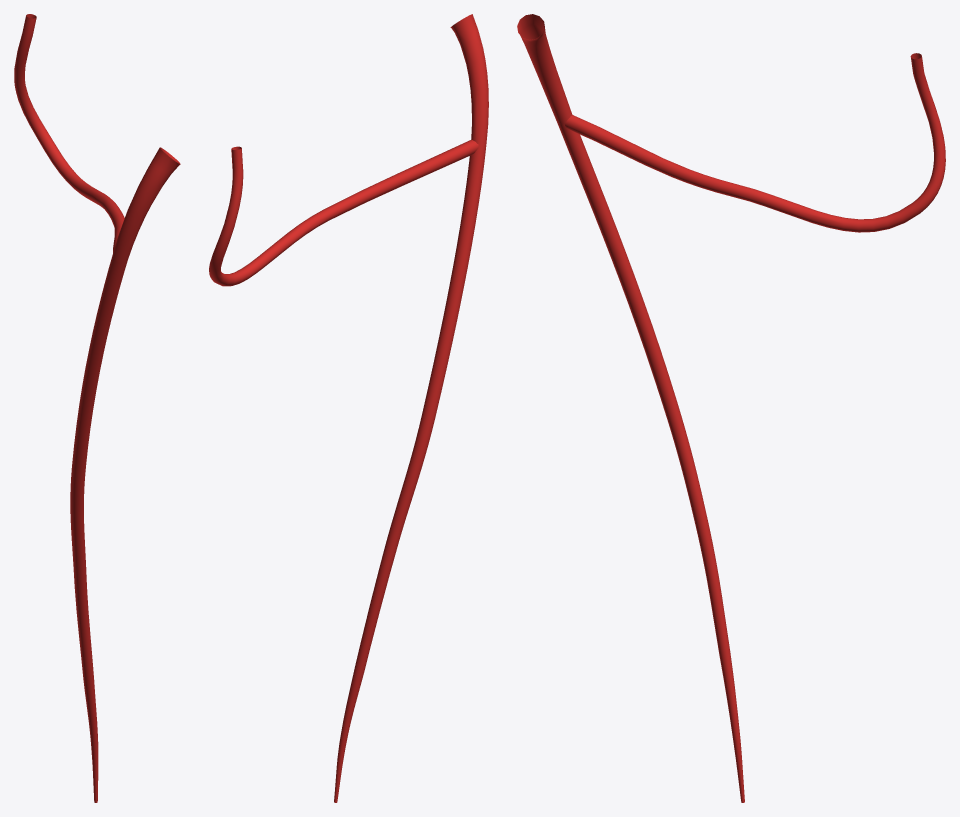
File: circulatorio-subscapular-artery-l.glb
3 views of the same model, side by side, from view 1: azimuth 30°, elevation 25°; view 2: azimuth 150°, elevation 25°; view 3: azimuth 270°, elevation 25° (orthographic). The views are drawn at different scales.
Parts seen in each view (by area): view 1: Thoracodorsal artery.l, Circumflex scapular artery.l, Subscapular artery.l; view 2: Thoracodorsal artery.l, Circumflex scapular artery.l, Subscapular artery.l; view 3: Thoracodorsal artery.l, Circumflex scapular artery.l, Subscapular artery.l.
Boxes of the visible parts, x1,y1,x2,y2 form: Thoracodorsal artery.l: (70, 255, 127, 802); Circumflex scapular artery.l: (14, 14, 124, 252); Subscapular artery.l: (112, 147, 180, 262); Thoracodorsal artery.l: (334, 145, 486, 802); Circumflex scapular artery.l: (209, 139, 481, 286); Subscapular artery.l: (450, 14, 488, 145); Thoracodorsal artery.l: (557, 123, 744, 802); Circumflex scapular artery.l: (564, 53, 945, 232); Subscapular artery.l: (517, 14, 572, 124).
Size of the model in its own units: 0.0145 by 0.0899 by 0.0453.
